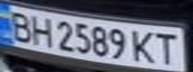2: (51, 17, 75, 53)
5: (69, 20, 93, 56)
8: (90, 24, 109, 58)
9: (106, 26, 130, 61)
B: (3, 8, 36, 43)
H: (24, 14, 57, 47)
K: (127, 27, 160, 64)
T: (151, 29, 184, 66)
